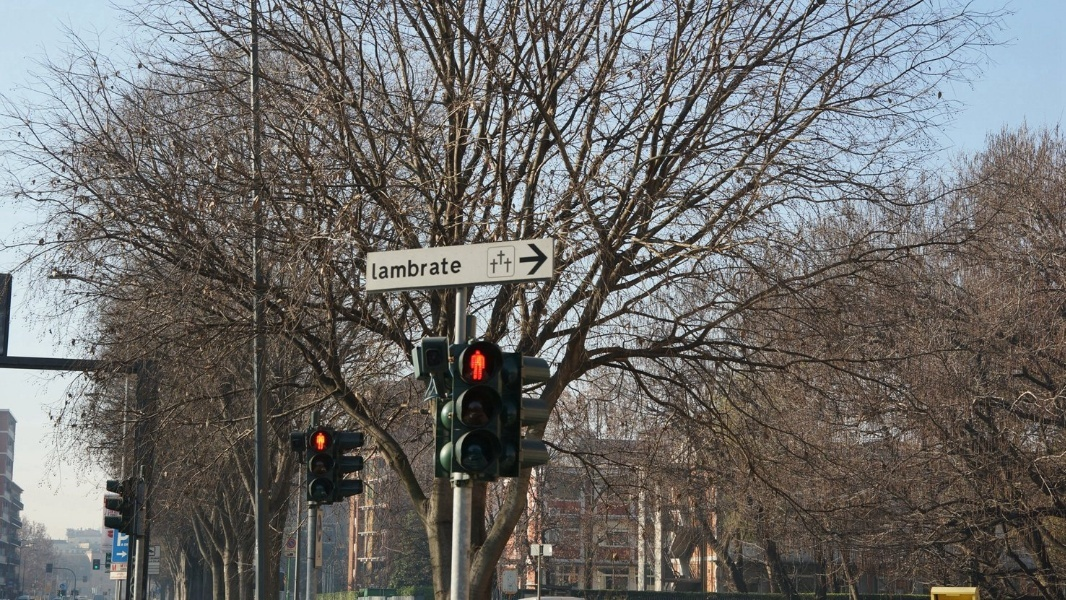text: (385, 255, 400, 281), (401, 255, 416, 281), (417, 255, 432, 281), (433, 255, 448, 281), (372, 255, 384, 281), (449, 255, 461, 281), (117, 531, 128, 547), (149, 556, 160, 564), (116, 573, 128, 580), (119, 563, 128, 572), (113, 564, 117, 572), (129, 531, 130, 547)
